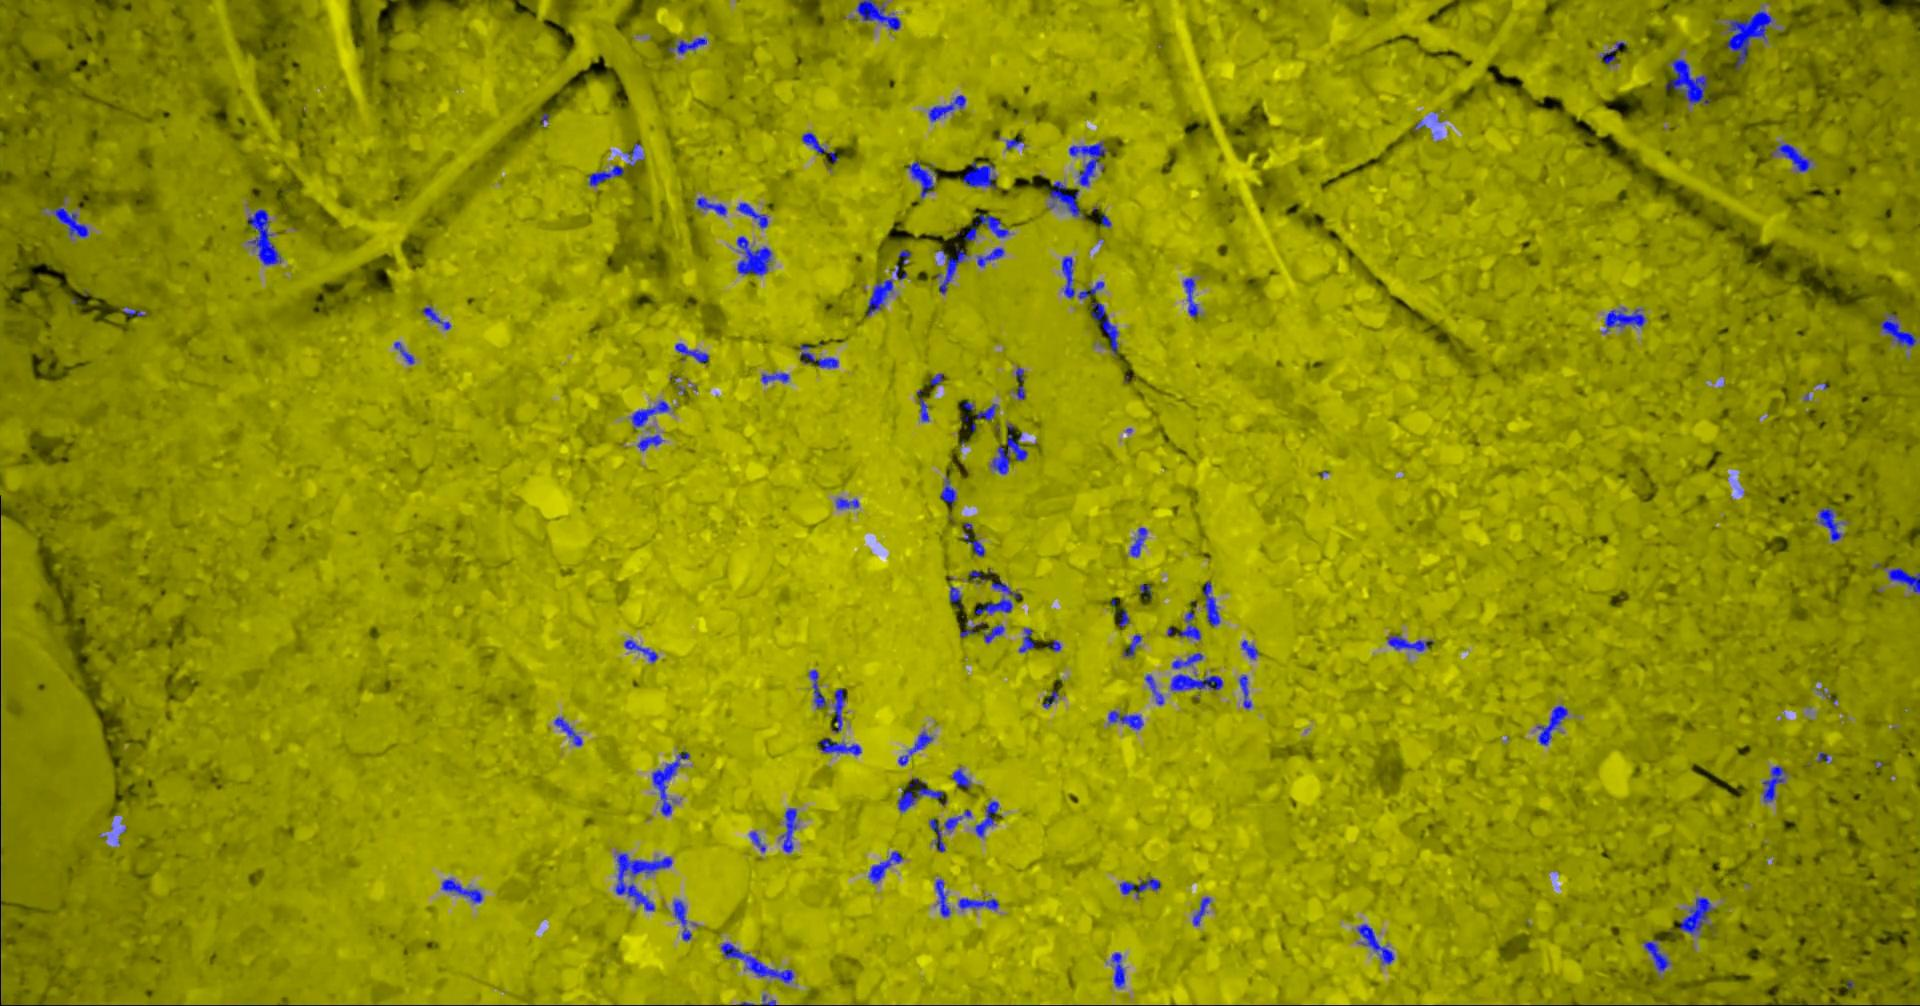ant: (720, 942, 792, 982), (651, 752, 690, 815), (1665, 58, 1709, 104), (990, 423, 1027, 474), (248, 210, 279, 265), (1062, 257, 1103, 298), (1068, 141, 1105, 185), (897, 777, 943, 810), (1091, 301, 1117, 356), (1356, 923, 1393, 963), (938, 246, 968, 293), (737, 236, 771, 276), (856, 0, 900, 29), (1879, 312, 1916, 347), (1679, 897, 1713, 934), (1537, 705, 1567, 746), (963, 213, 1008, 240), (897, 730, 932, 765), (1048, 180, 1081, 216), (52, 207, 88, 238), (1771, 144, 1810, 171), (1603, 307, 1644, 333), (630, 400, 669, 427), (908, 160, 936, 197), (865, 278, 891, 316), (441, 878, 483, 902), (869, 851, 902, 882), (928, 94, 965, 121), (1882, 567, 1919, 592), (963, 161, 996, 189), (1167, 611, 1200, 639), (1119, 876, 1161, 898), (799, 344, 838, 367), (778, 807, 797, 852), (1170, 673, 1222, 690), (552, 716, 582, 746), (1642, 939, 1669, 970), (1761, 765, 1784, 801), (1818, 507, 1843, 541), (974, 801, 998, 836), (737, 202, 767, 227), (672, 899, 691, 940), (588, 164, 623, 185), (1203, 580, 1219, 626), (1387, 635, 1432, 652), (623, 639, 657, 662), (963, 522, 984, 556), (817, 738, 860, 754), (667, 37, 706, 55), (808, 669, 825, 708), (1107, 710, 1143, 729), (674, 343, 709, 362), (422, 306, 450, 329), (1599, 41, 1625, 64), (975, 597, 1012, 614), (935, 878, 950, 916), (1183, 277, 1197, 318), (943, 809, 971, 829), (695, 197, 726, 215), (1144, 674, 1163, 704), (1171, 652, 1203, 668), (392, 340, 414, 365), (1129, 527, 1147, 556), (1192, 895, 1210, 925), (977, 246, 1003, 265), (833, 688, 844, 732), (801, 132, 825, 152), (940, 475, 955, 507), (957, 898, 998, 909), (990, 580, 1018, 597), (930, 818, 943, 851), (1111, 951, 1124, 987), (1123, 633, 1142, 655), (1238, 674, 1251, 708), (625, 142, 643, 165), (959, 621, 985, 636), (637, 434, 662, 451), (916, 390, 928, 420), (975, 403, 997, 420), (983, 624, 1004, 641), (1018, 627, 1034, 652), (951, 768, 970, 788), (1241, 639, 1258, 659), (748, 831, 764, 851), (759, 372, 789, 384), (949, 586, 961, 607), (1043, 690, 1058, 708), (1114, 608, 1128, 626), (122, 306, 145, 316), (836, 498, 858, 508), (968, 570, 989, 580), (898, 249, 910, 264), (1006, 138, 1021, 149)
